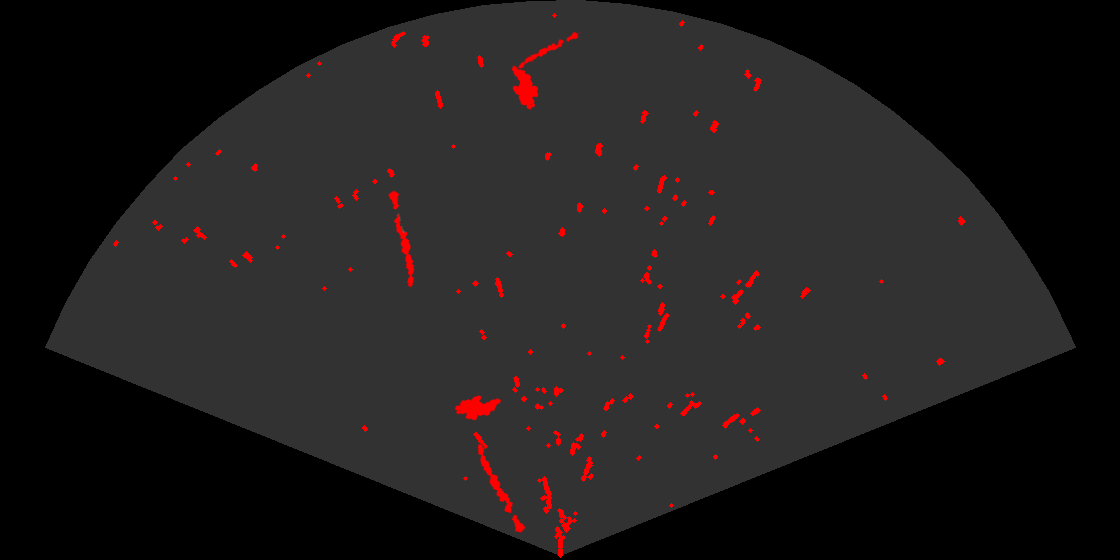AUV: (510, 64, 540, 111), (453, 394, 503, 422)
chain: (476, 443, 527, 534), (509, 30, 581, 72), (387, 188, 416, 289)
